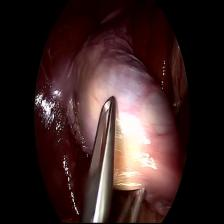Grasper: (78, 97, 152, 224)
